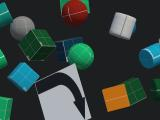Right: (34, 63, 92, 120)
